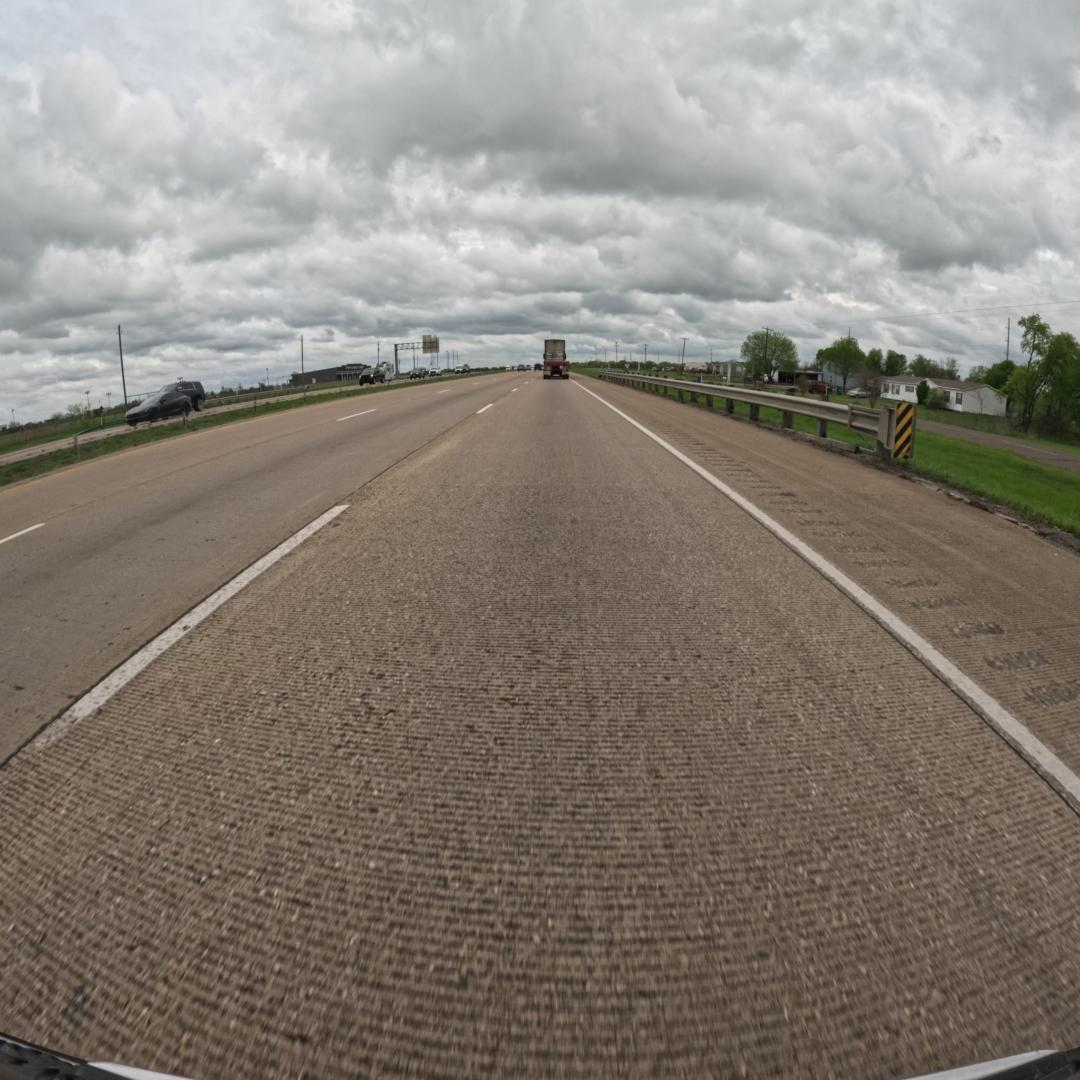lane0: (0, 382, 1080, 1077)
lane1: (0, 375, 526, 761)
